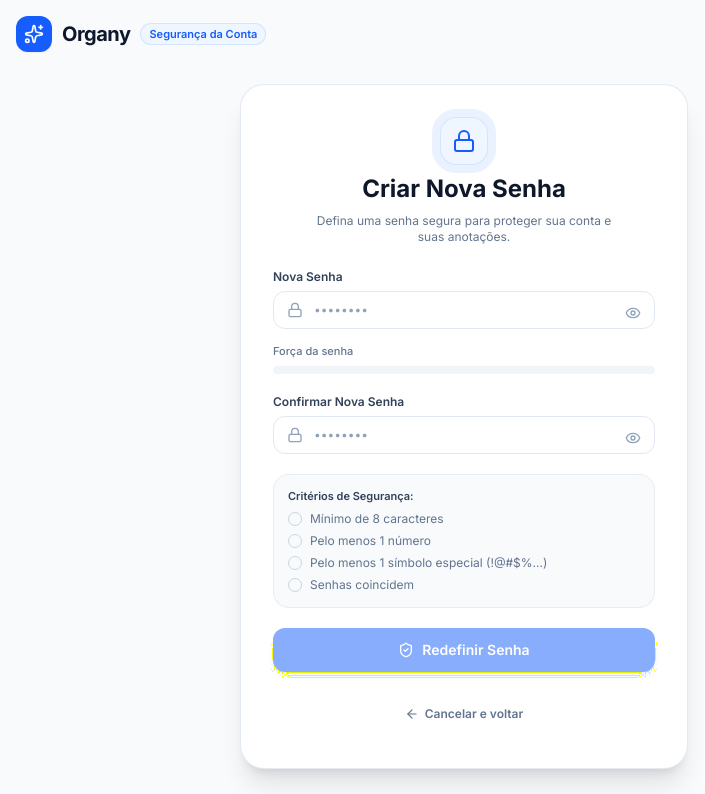
Scenario: ResetPasswordView Component › Validação de Senha em Tempo Real e Indicador de Força › avalia senha fraca (< 8 caracteres ou sem número/símbolo) com cor vermelha e barra em 33%
expect the button "Redefinir Senha" is disabled: met, box x1=273 y1=628 x2=655 y2=672
Digita apenas 4 letras
Type "abcd" into the password field labelled "Nova Senha" at (464, 310), box x1=273 y1=291 x2=655 y2=329
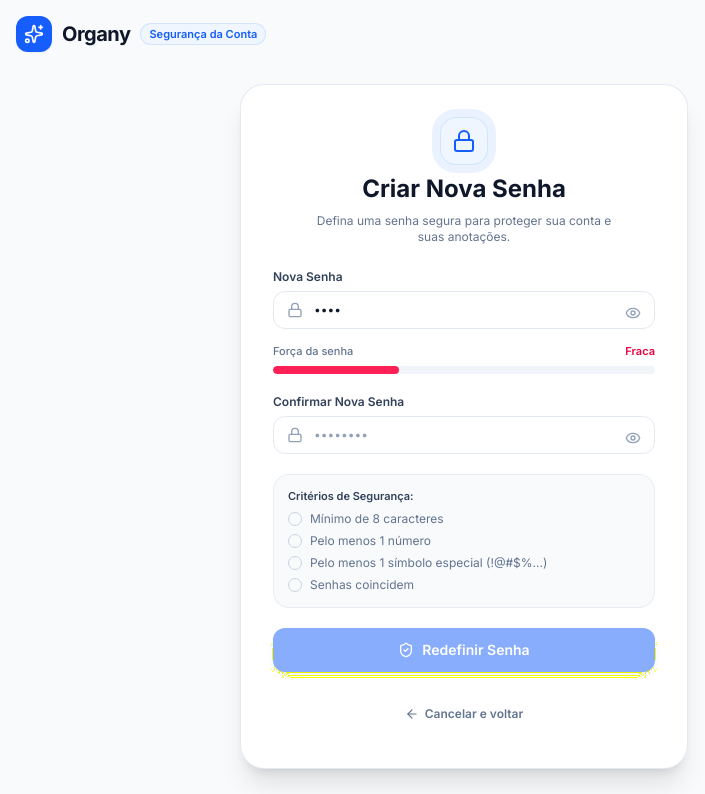
expect the button "Redefinir Senha" is disabled: met, box x1=273 y1=628 x2=655 y2=672
expect the text "Fraca" is shown: met, box x1=625 y1=343 x2=655 y2=360
